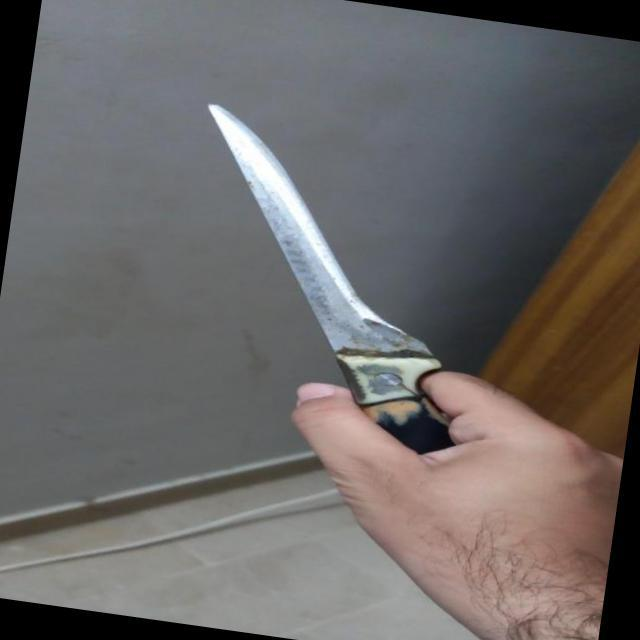Knife: (148, 83, 558, 474)
